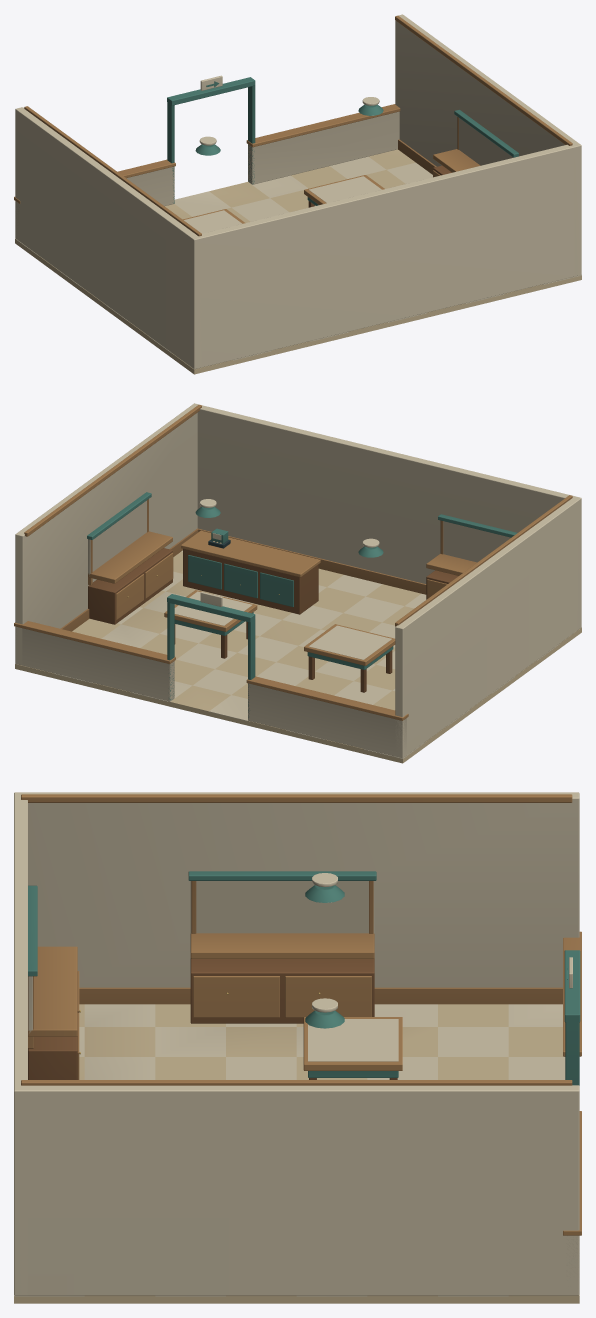
File: store_interior.glb
The picture shows the model from 3 angles, top to bottom: view 1: azimuth 30°, elevation 25°; view 2: azimuth 150°, elevation 25°; view 3: azimuth 270°, elevation 25°; orthographic projection. The views are drawn at different scales.
Size of the model in its own units: 10.03 by 3.37 by 8.04.
